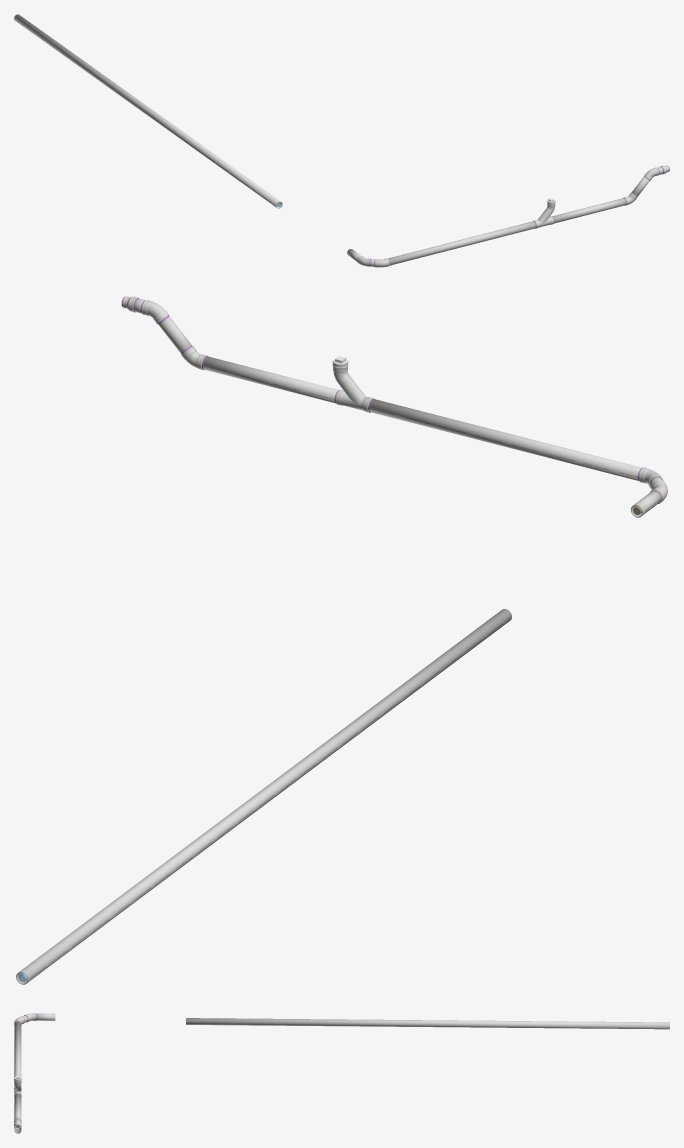
File: pipes_dwv__sewer-septic_gravity.glb
3 renders of one model, top to bottom at view 1: azimuth 30°, elevation 25°; view 2: azimuth 150°, elevation 25°; view 3: azimuth 270°, elevation 25°, orthographic. The views are drawn at different scales.
Parts seen in each view (by area): view 1: pipe_dwv_effluent_gravity, pipe_dwv_sewer_gravity; view 2: pipe_dwv_effluent_gravity, pipe_dwv_sewer_gravity, cleanout_dwv_yard_gravity; view 3: pipe_dwv_effluent_gravity, pipe_dwv_sewer_gravity.
Boxes of the visible parts, x1,y1,x2,y2 form: pipe_dwv_effluent_gravity: (14,14,282,208); pipe_dwv_sewer_gravity: (347,167,662,267); pipe_dwv_effluent_gravity: (16,609,511,984); pipe_dwv_sewer_gravity: (134,298,667,517); cleanout_dwv_yard_gravity: (332,360,374,412); pipe_dwv_effluent_gravity: (186,1018,669,1029); pipe_dwv_sewer_gravity: (14,1013,55,1133).
Size of the model in its own units: 5.28 by 0.708 by 10.77.
